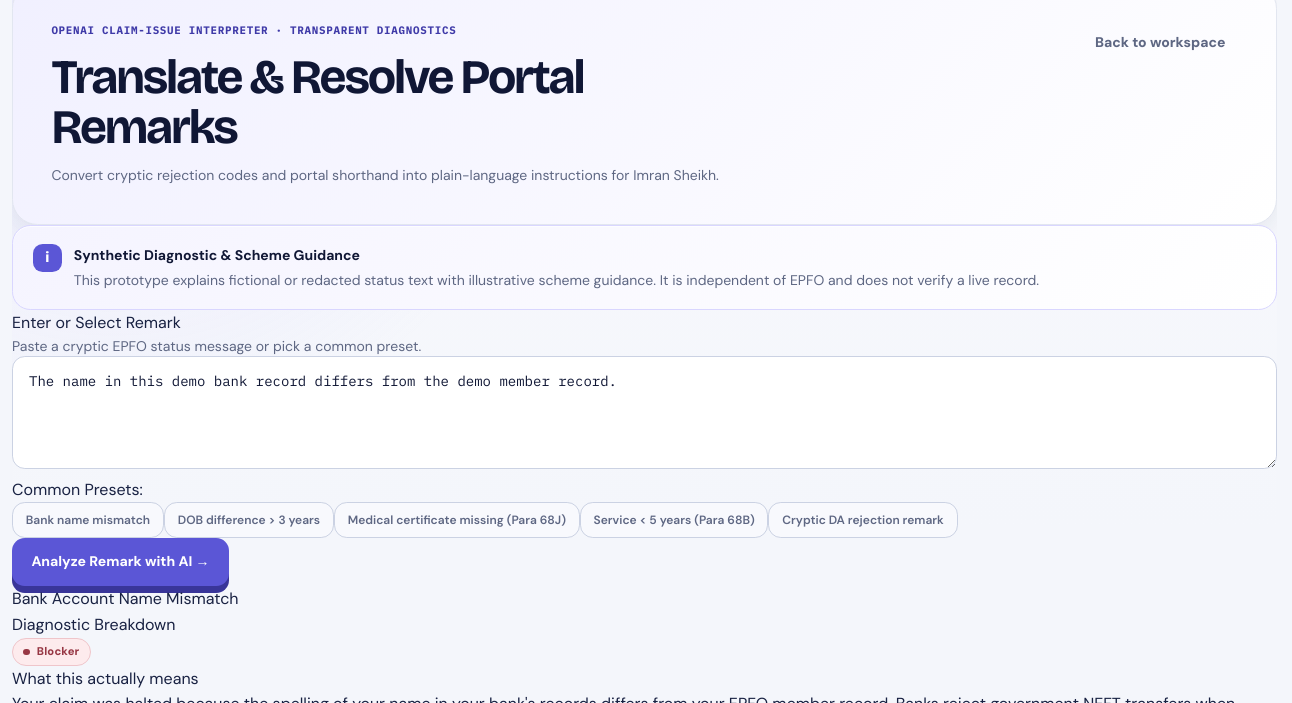
Test case: ClaimIssueInterpreter › translates preset remarks and copies diagnostic summary
This screenshot has width=1292, height=703.
# Select Medical Certificate preset
Click the button "Medical certificate missing (Para 68J)" at coordinates (457, 520), box x1=334 y1=502 x2=580 y2=538
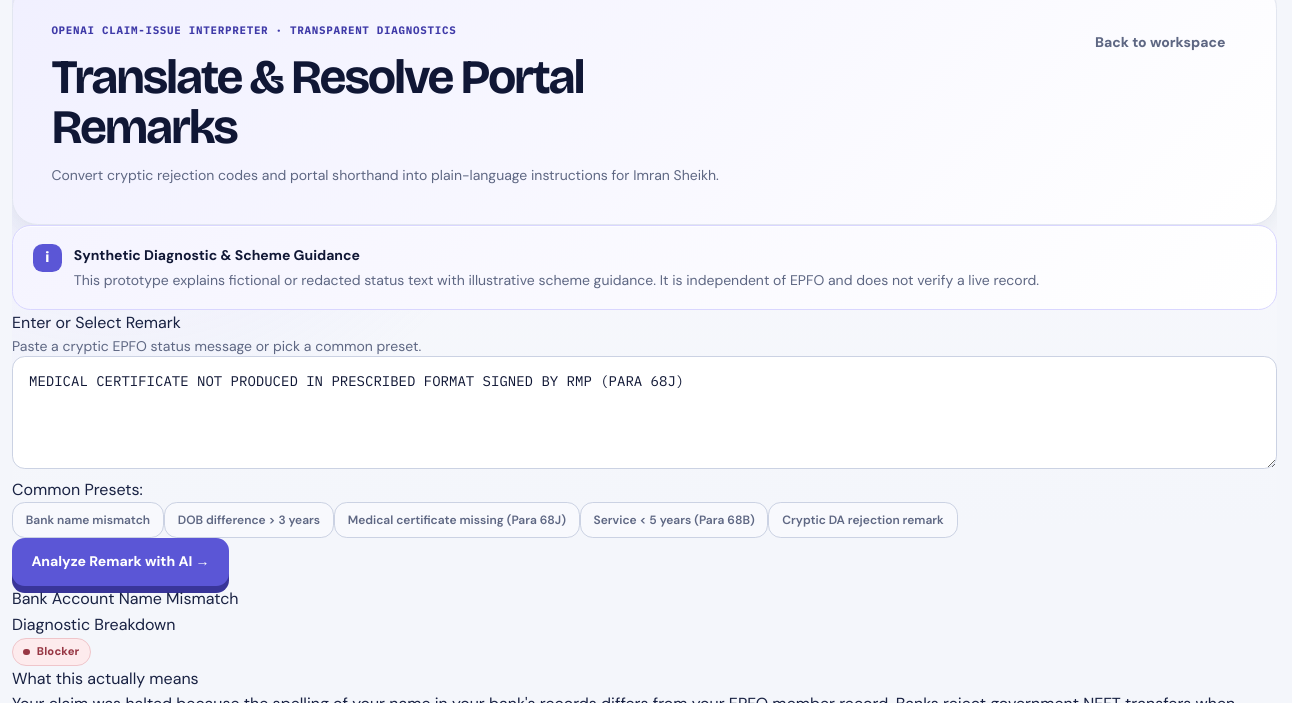
# Click Analyze
Click the button "Analyze Remark with AI →" at coordinates (120, 562), box x1=12 y1=538 x2=229 y2=586
(page scrolled)
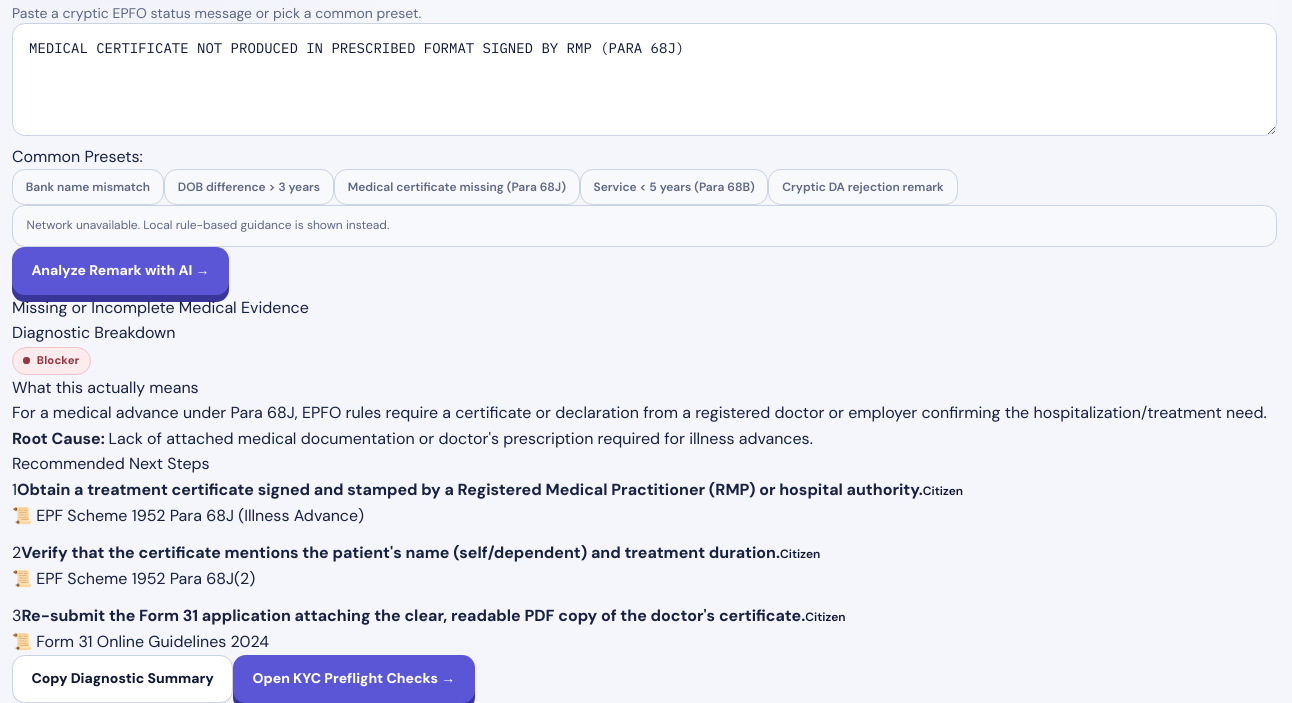
# Test copy action summary
Click the button "Copy Diagnostic Summary" at coordinates (123, 679), box x1=12 y1=655 x2=233 y2=702
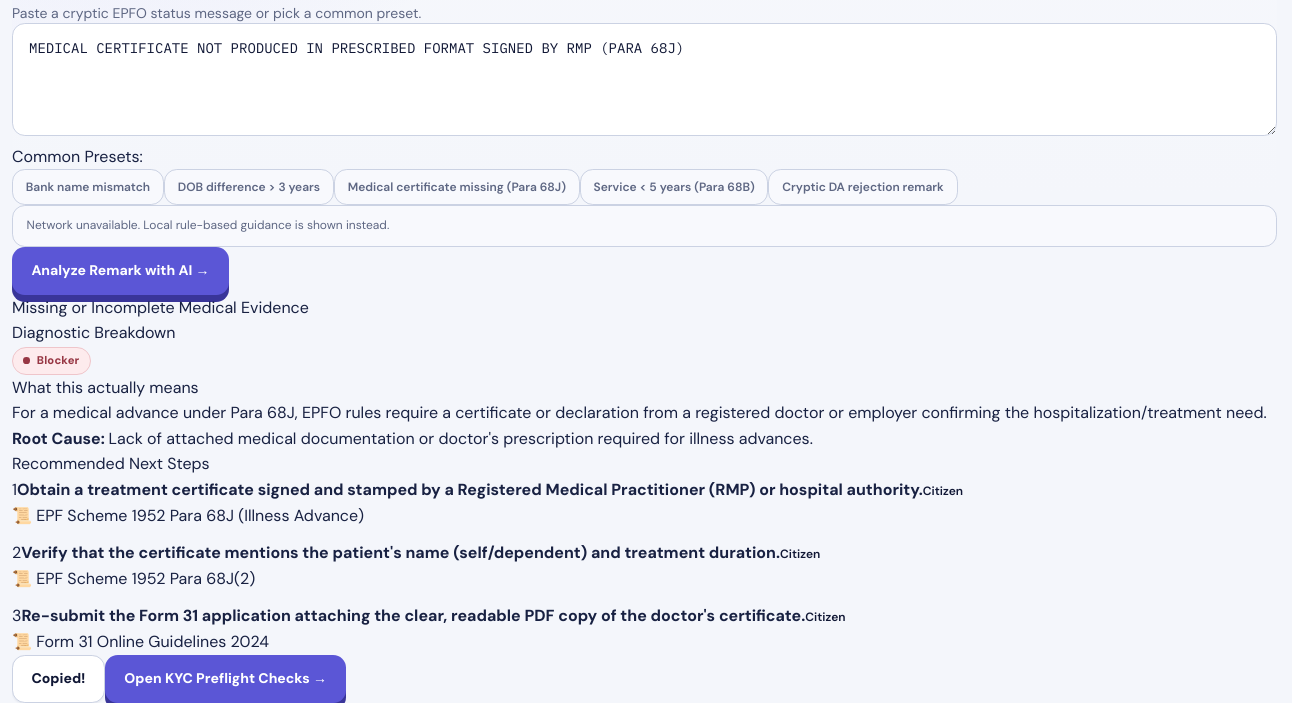
Expected: the button "Copied!" is shown, x1=12 y1=655 x2=105 y2=702
